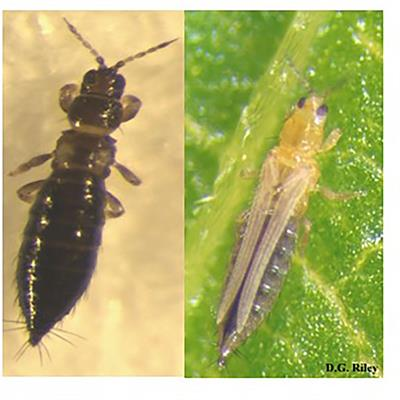Thrips: (12, 21, 152, 349), (221, 64, 339, 366)
